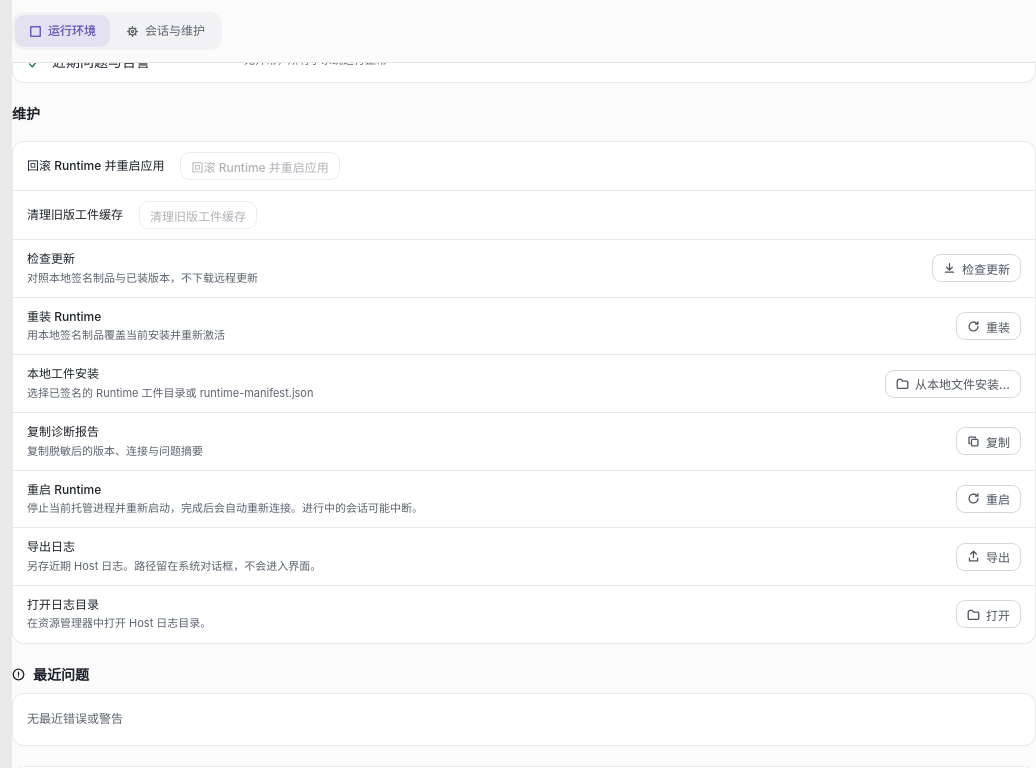
Scenario: Runtime installation handoff › does not silently install stable when an imported artifact has no channel
What coordinates should you click on to do the following:
click the button "从本地文件安装…"
I would click on:
 (953, 384)
Its box is [885,370,1021,398].
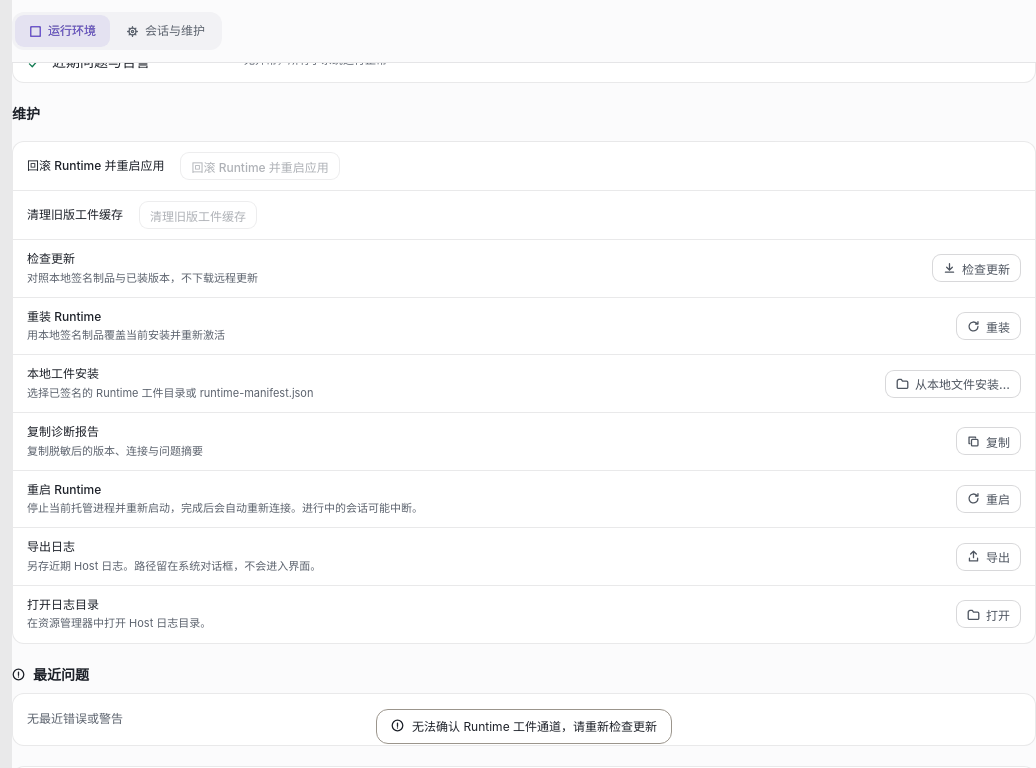
Check: the text "无法确认 Runtime 工件通道，请重新检查更新" is shown, box [412,718,657,735]
